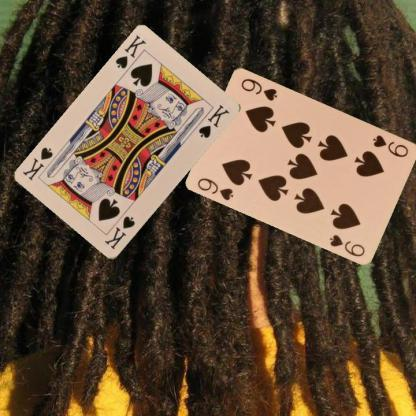9s: (370, 132, 411, 159), (195, 175, 236, 202)
Ks: (113, 33, 148, 70), (102, 214, 136, 251)
